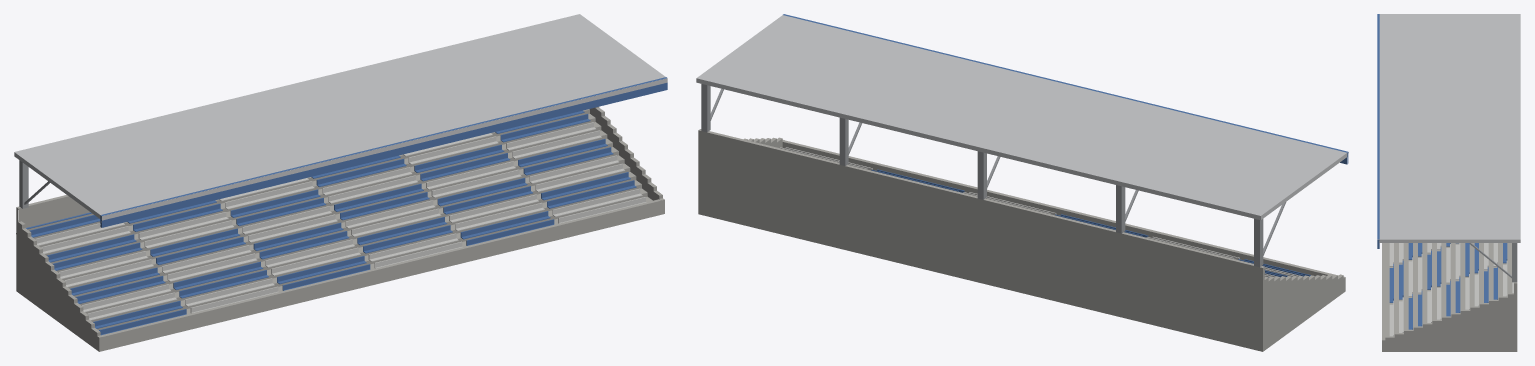
Rendered from stadium-stand.zfix-v3.lod1.glb.
3 renders of one model, left to right at view 1: azimuth 30°, elevation 25°; view 2: azimuth 150°, elevation 25°; view 3: azimuth 270°, elevation 25°, orthographic. The views are drawn at different scales.
Visible parts, largest first — view 1: stadium-stand; view 2: stadium-stand; view 3: stadium-stand.
Part boxes in pixels (left/top/right/bottom): stadium-stand: left=14, top=14, right=667, bottom=351; stadium-stand: left=696, top=14, right=1348, bottom=351; stadium-stand: left=1377, top=14, right=1520, bottom=351.
Size of the model in its own units: 48.03 by 11.18 by 12.91.
